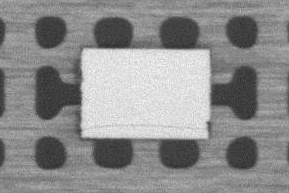DIE_CRACK: (83, 122, 206, 131)
